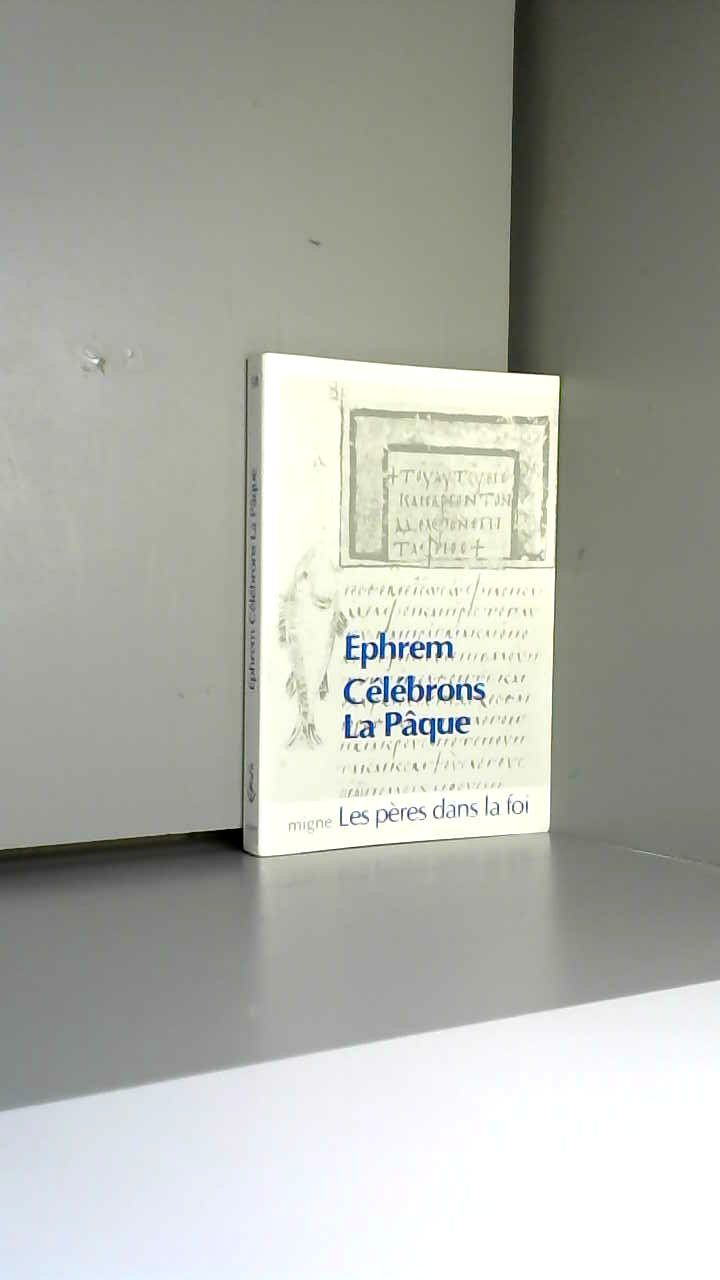book: (206, 315, 607, 911)
